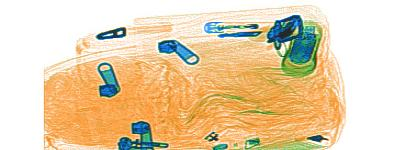battery: (288, 29, 317, 64)
lighter: (205, 19, 286, 41)
